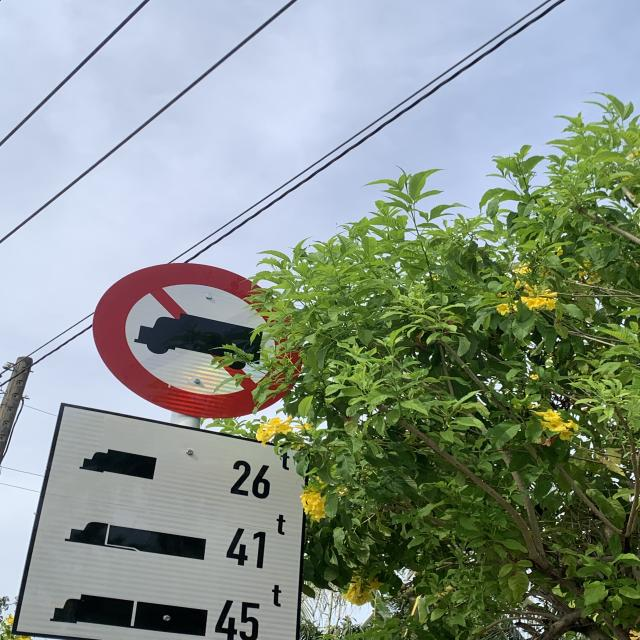Cam_Xe_Tai: (96, 256, 298, 425)
